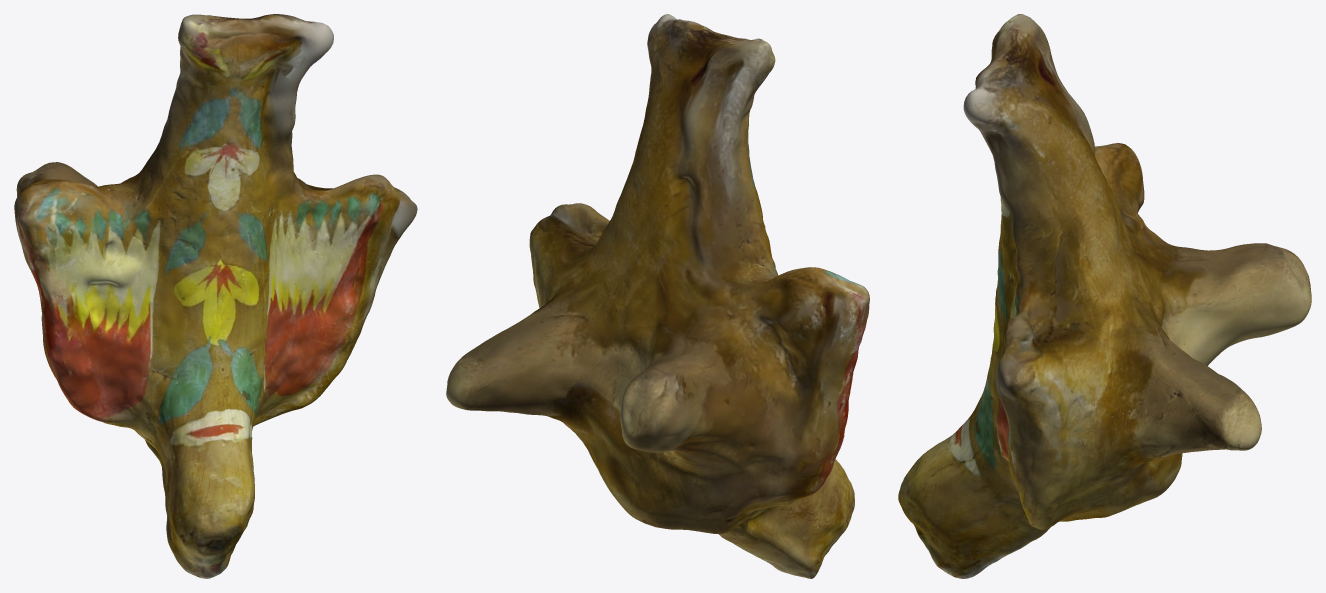
3 renders of one model, left to right at view 1: azimuth 30°, elevation 25°; view 2: azimuth 150°, elevation 25°; view 3: azimuth 270°, elevation 25°, orthographic. The views are drawn at different scales.
Bounding box in the file's own units: 0.2866 × 0.4096 × 0.2711.
Materials: 1 (1 with a texture image).
